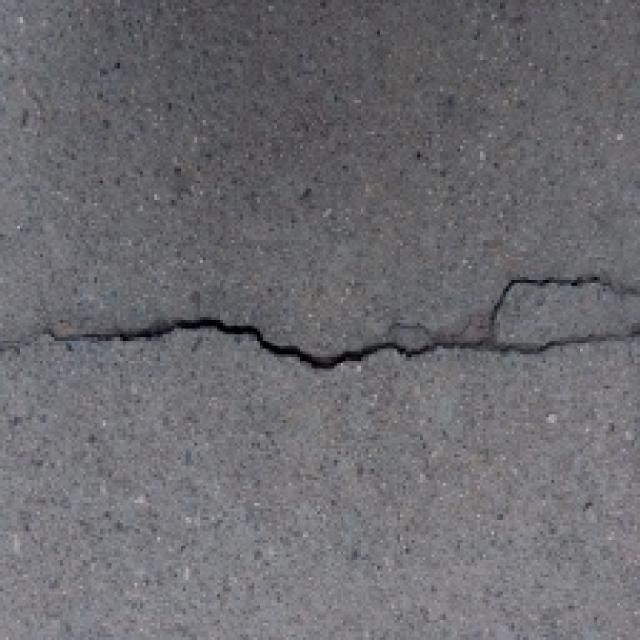crack: (14, 266, 640, 392)
